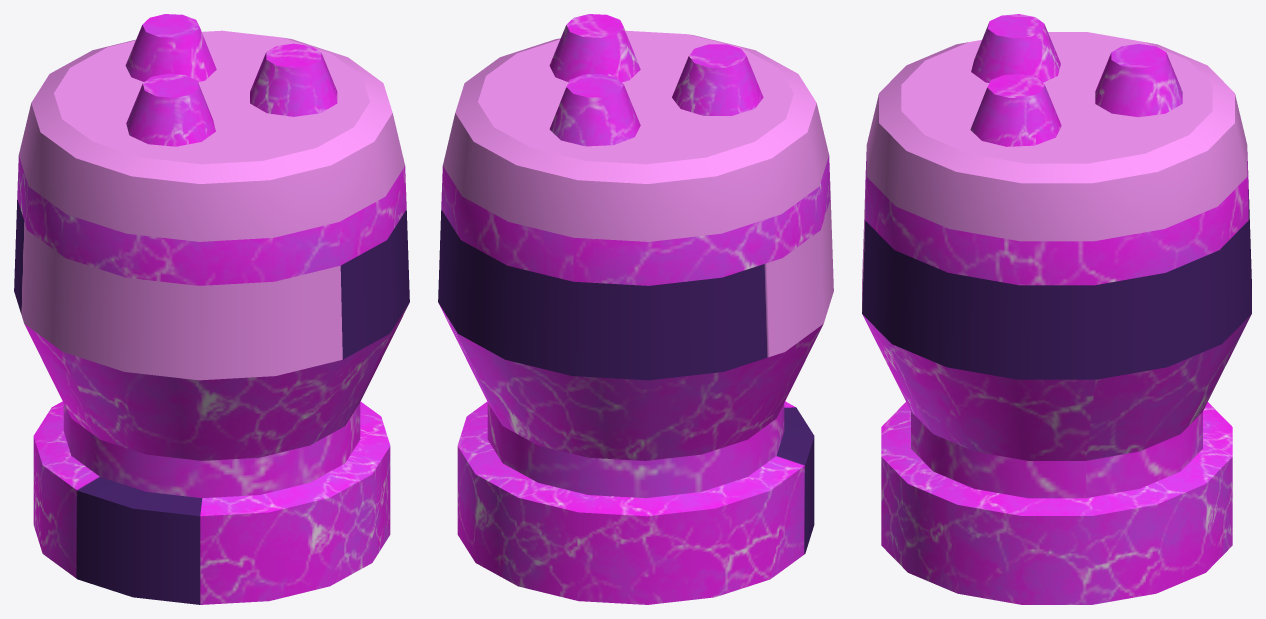
Rendered from Low_cover.fbx.
3 views of the same model, side by side, from view 1: azimuth 30°, elevation 25°; view 2: azimuth 150°, elevation 25°; view 3: azimuth 270°, elevation 25° (orthographic).
Visible parts, largest first — view 1: waal_solid_3; view 2: waal_solid_3; view 3: waal_solid_3.
Part boxes in pixels (box(x1,y1,x2,y2)): waal_solid_3: box(14, 14, 409, 604); waal_solid_3: box(438, 14, 833, 604); waal_solid_3: box(862, 14, 1251, 604).
Bounding box in the file's own units: 29.14 × 39.14 × 29.14.
